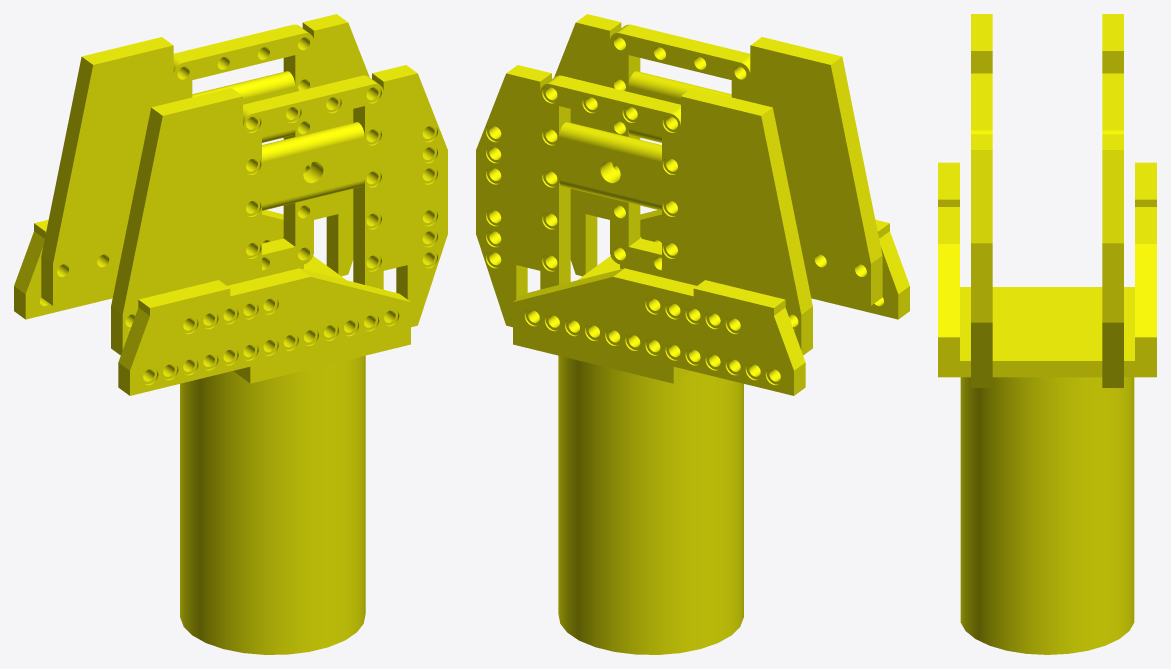
Rendered from BaseMovil.dae.
The picture shows the model from 3 angles, left to right: view 1: azimuth 30°, elevation 25°; view 2: azimuth 150°, elevation 25°; view 3: azimuth 270°, elevation 25°; orthographic projection. The views are drawn at different scales.
Visible parts, largest first — view 1: Boss-Extrude8, Cut-Extrude1, Mirror2FBXASC0911FBXASC093; view 2: Boss-Extrude8, Mirror2FBXASC0911FBXASC093, Cut-Extrude1; view 3: Boss-Extrude8, Cut-Extrude1, Mirror2FBXASC0911FBXASC093.
Boxes of the visible parts, x1,y1,x2,y2 form: Boss-Extrude8: (41, 14, 447, 654); Cut-Extrude1: (118, 268, 410, 395); Mirror2FBXASC0911FBXASC093: (14, 210, 283, 319); Boss-Extrude8: (476, 14, 882, 654); Mirror2FBXASC0911FBXASC093: (513, 268, 805, 395); Cut-Extrude1: (640, 210, 909, 319); Boss-Extrude8: (938, 14, 1156, 654); Cut-Extrude1: (938, 162, 959, 360); Mirror2FBXASC0911FBXASC093: (1135, 162, 1156, 360).
Size of the model in its own units: 5.26 by 8.49 by 3.15.
